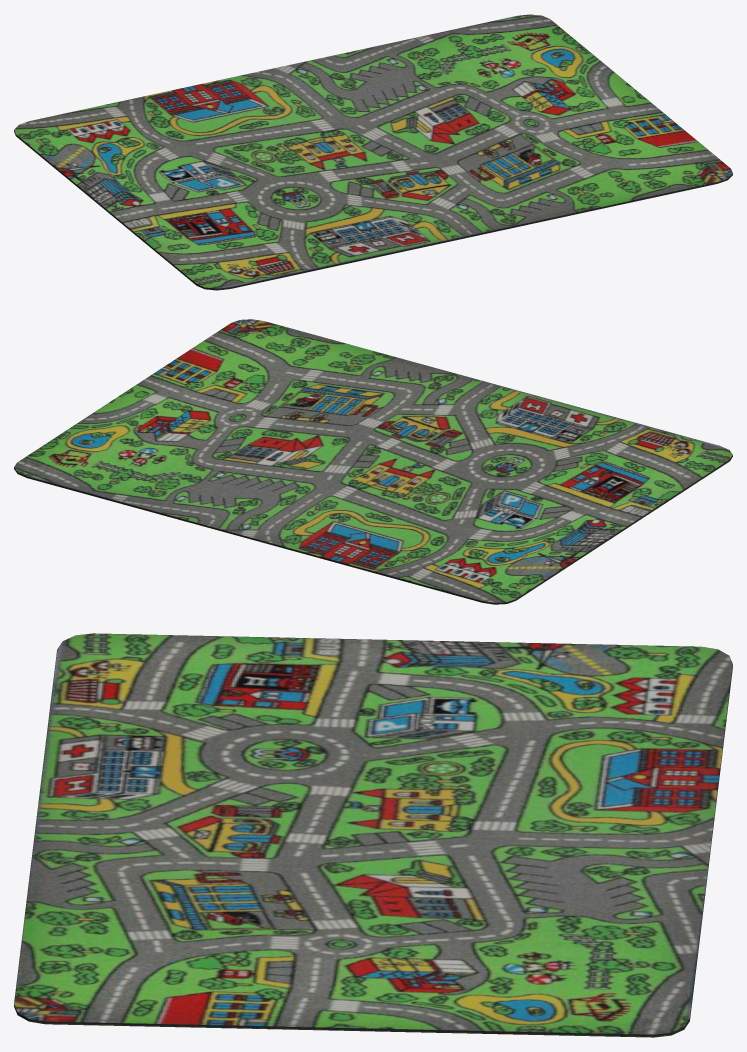
The model's file is kid-carpet.fbx.
3 renders of one model, top to bottom at view 1: azimuth 30°, elevation 25°; view 2: azimuth 150°, elevation 25°; view 3: azimuth 270°, elevation 25°, orthographic. The views are drawn at different scales.
Parts seen in each view (by area): view 1: Rug; view 2: Rug; view 3: Rug.
Boxes of the visible parts, left/top/right/bottom form: Rug: left=14, top=14, right=732, bottom=290; Rug: left=14, top=319, right=732, bottom=604; Rug: left=14, top=633, right=732, bottom=1037.
Size of the model in its own units: 172 by 0.5448 by 130.
Materials: 1 (1 with a texture image).
